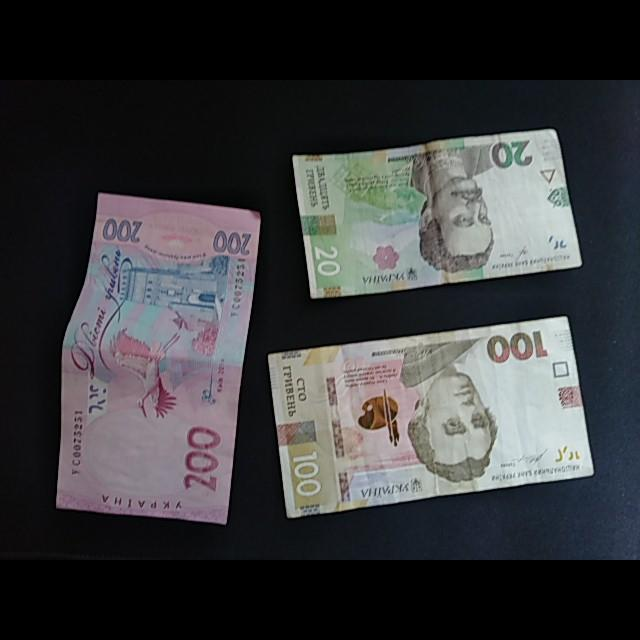100uah: (267, 316, 596, 516)
200uah: (55, 190, 263, 526)
20uah: (292, 129, 583, 299)
